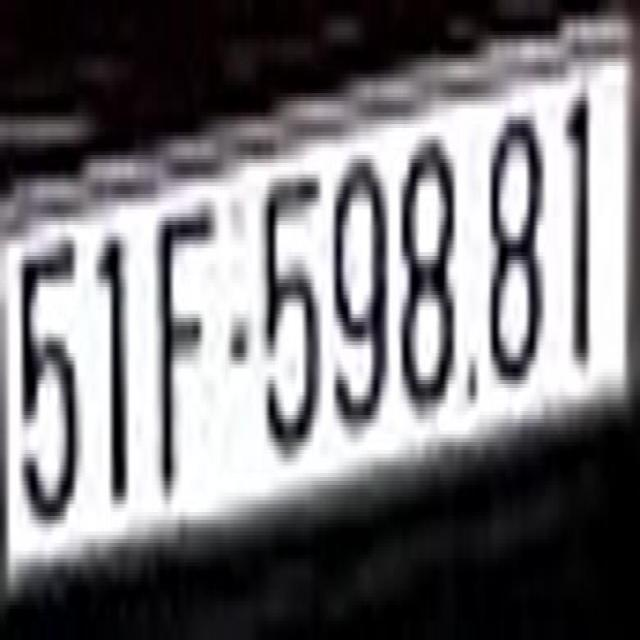1: (564, 89, 596, 384), (98, 236, 132, 504)
5: (17, 232, 77, 520), (262, 178, 322, 458)
8: (482, 105, 544, 392), (401, 144, 454, 416)
9: (332, 147, 386, 427)
F: (154, 198, 213, 478)
